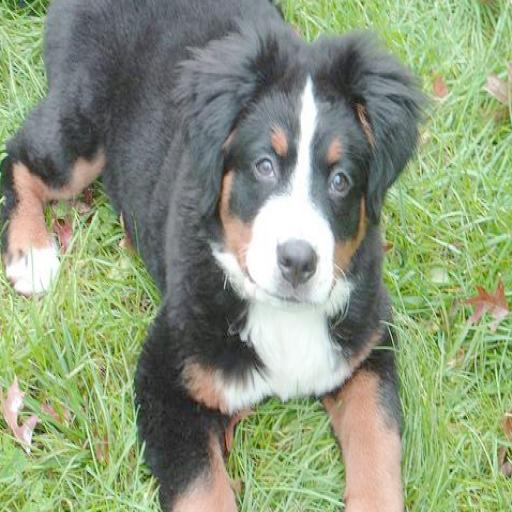dog_face: (210, 47, 407, 288)
